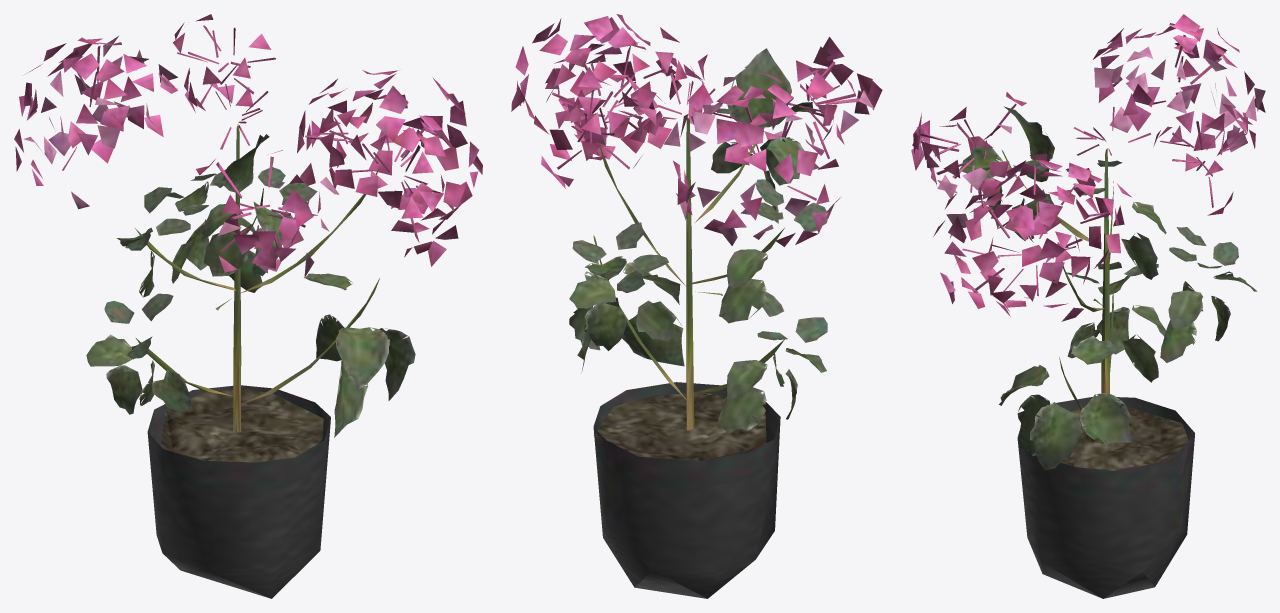
The model's file is Vase0014.obj.
The picture shows the model from 3 angles, left to right: view 1: azimuth 30°, elevation 25°; view 2: azimuth 150°, elevation 25°; view 3: azimuth 270°, elevation 25°; orthographic projection. The views are drawn at different scales.
Bounding box in the file's own units: 0.455 × 0.625 × 0.397.
Materials: 1 (1 with a texture image).
